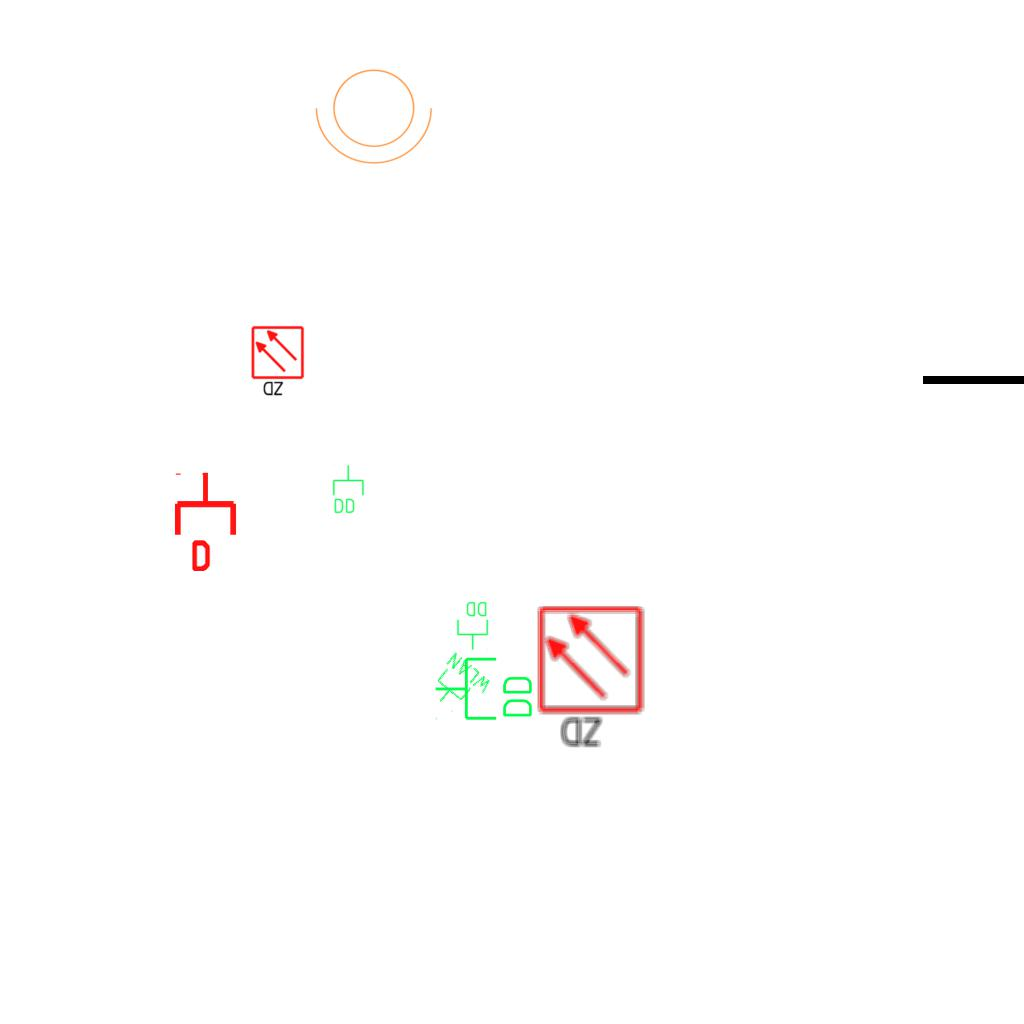Datenanschluss_einfach: (171, 471, 240, 571)
Datenanschluss_zweifach: (433, 655, 536, 724), (331, 464, 365, 515), (456, 600, 490, 651)
Scheinwerfer_fuer_Alarmbeleuchtung: (311, 57, 443, 169)
WLAN: (422, 649, 496, 723)
ZD_Melder_in_Zwischendecke_mit_Revisionsoeffnung_mind_40_x_40_cm: (535, 604, 649, 753), (250, 325, 307, 399)
